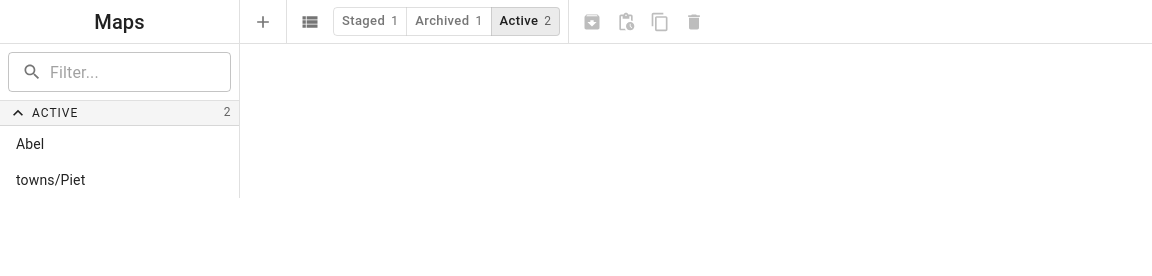
Test case: EditorFileListPanel — the sets › adds the staged set from its toggle
Click the button with aria-label "Staged (1)": (370, 22) [333,7,407,36]
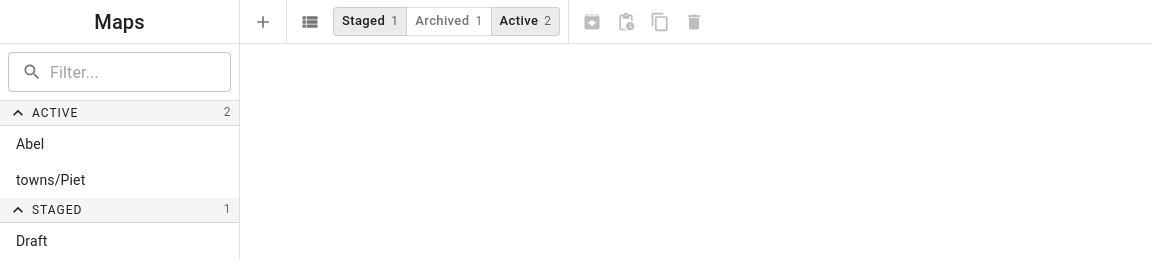
expect the button with test id "list-section-staged" is shown: met, box [0,198,239,223]
expect the text "Draft" is shown: met, box [16,233,48,249]
